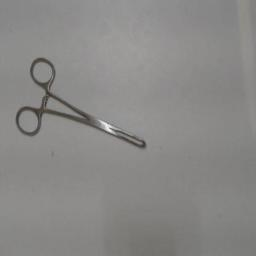Allis Tissue Forceps: (12, 50, 152, 154)
